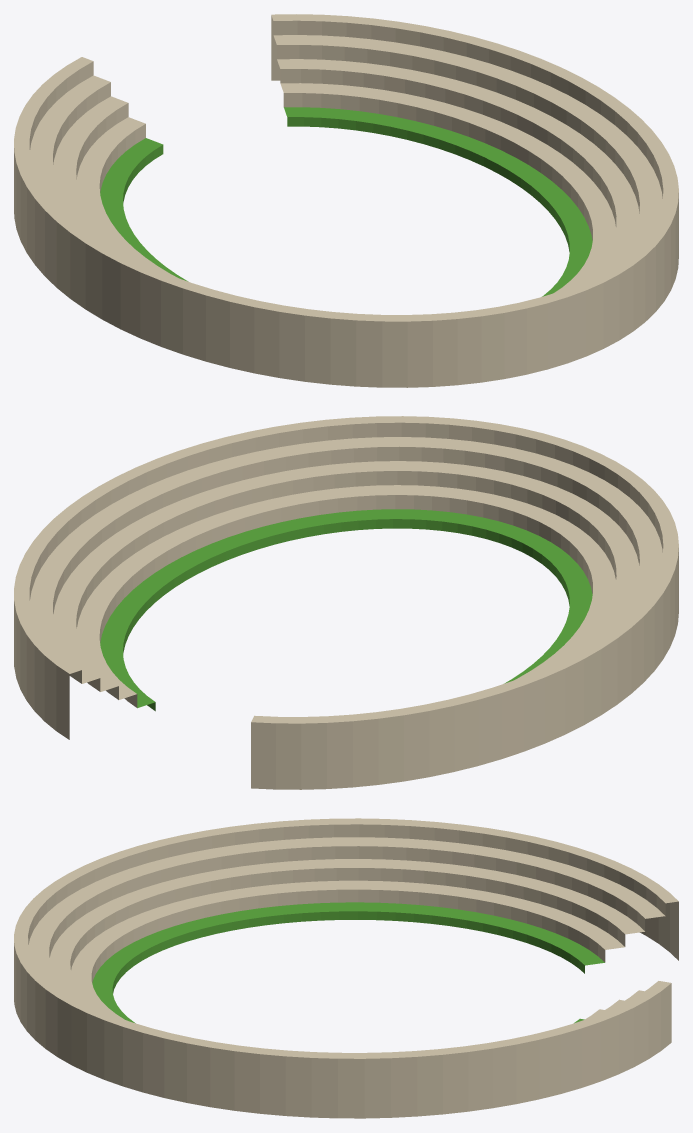
File: venue_amph.glb
The picture shows the model from 3 angles, top to bottom: view 1: azimuth 30°, elevation 25°; view 2: azimuth 150°, elevation 25°; view 3: azimuth 270°, elevation 25°; orthographic projection. The views are drawn at different scales.
Parts seen in each view (by area): view 1: amph; view 2: amph; view 3: amph.
Part boxes in pixels (box(x1,y1,x2,y2)): amph: box(14, 14, 678, 387); amph: box(14, 416, 678, 789); amph: box(14, 818, 678, 1118).
Bounding box in the file's own units: 12.1 × 1.4 × 14.14.
